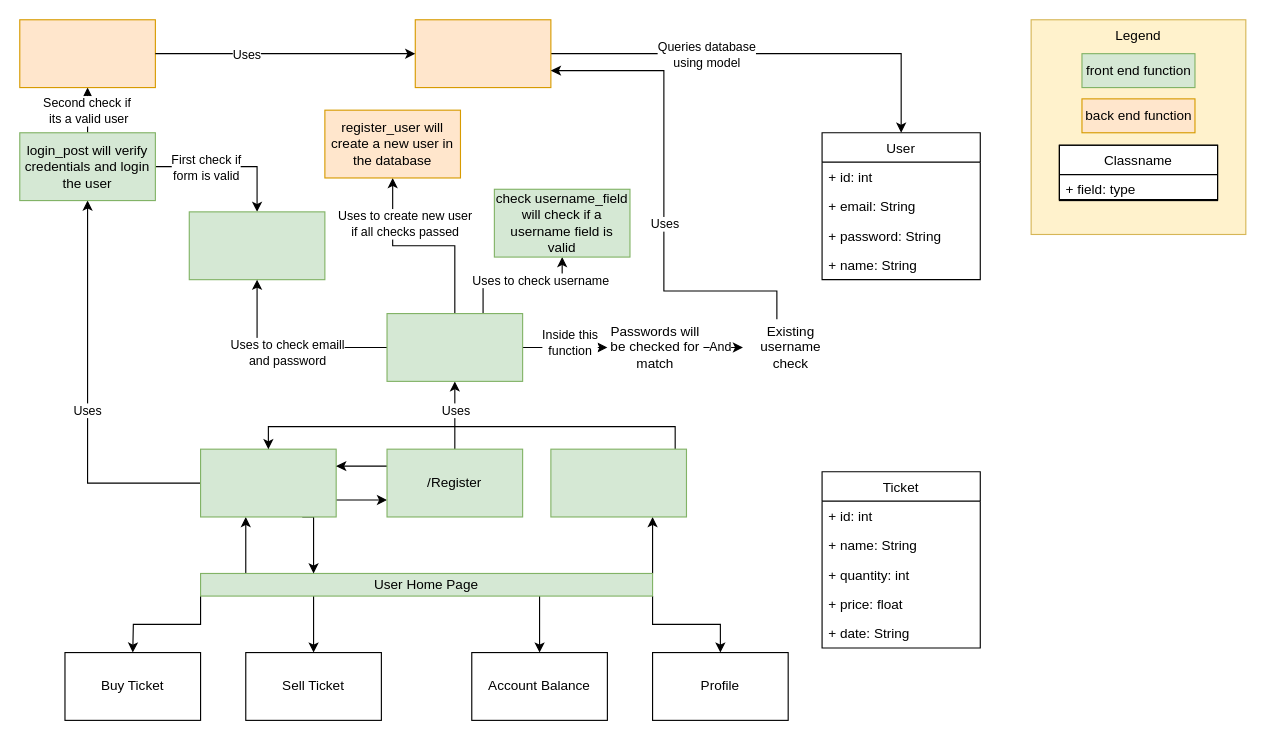
This 1266x740 diagram has some shape labels left out. The centre of each missing label's shape, as x and y in pixels:
/Login: [267,482]
/Logout: [618,482]
check_login_form will check if the email/password form for login is valid: [256,245]
get_user will return a user object from a username: [482,53]
login_user checks if a user exists in the database: [87,53]
register_post will verify credentials valid for a user and create the user: [454,346]
